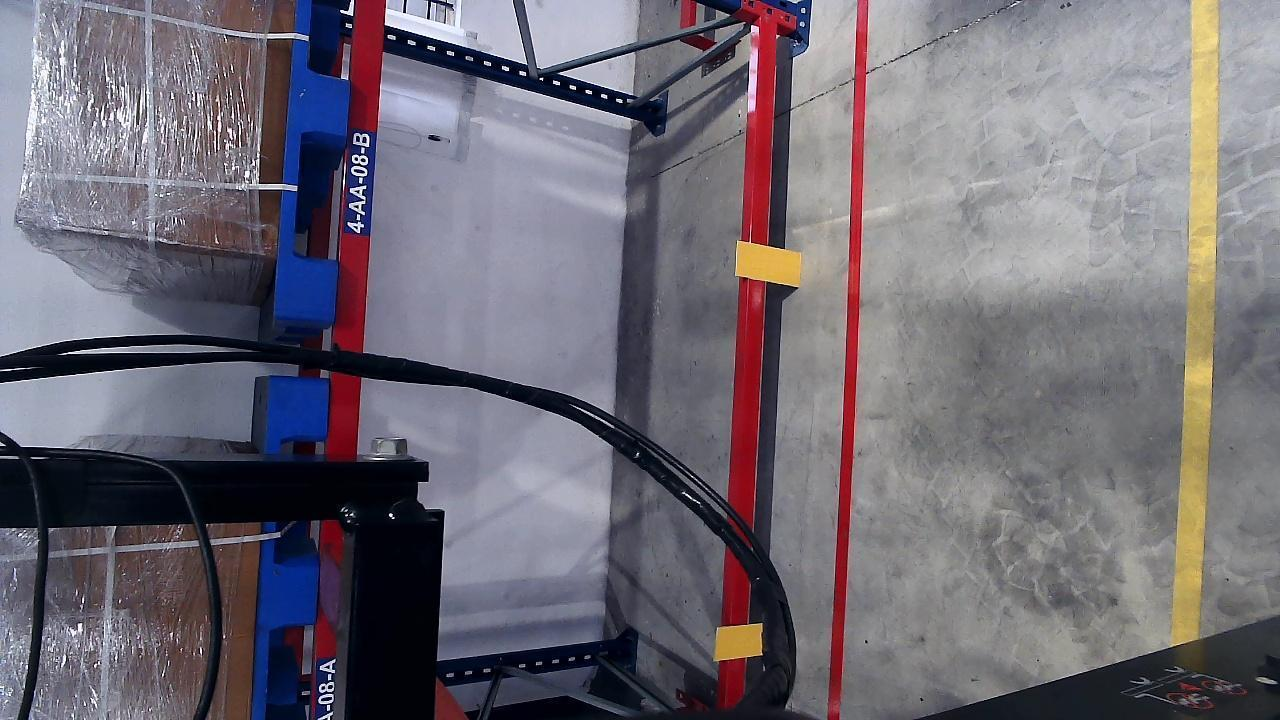red_line: (834, 11, 870, 714)
yellow_line: (1171, 0, 1219, 646)
